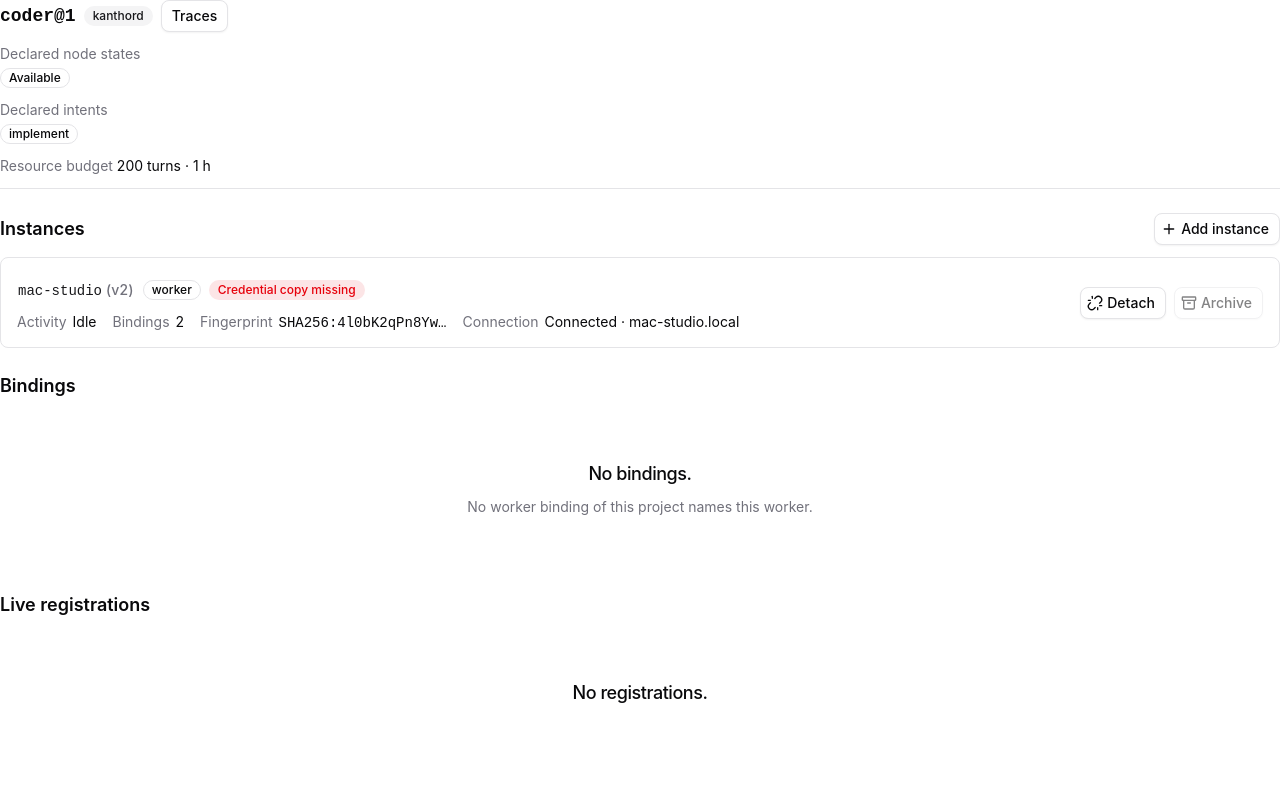
WorkerScreen › asks which binding to detach from when several bindings list the instance
Click the button with aria-label "Detach mac-studio". click: coordinates (1123, 302)
box: x1=1080 y1=286 x2=1166 y2=318
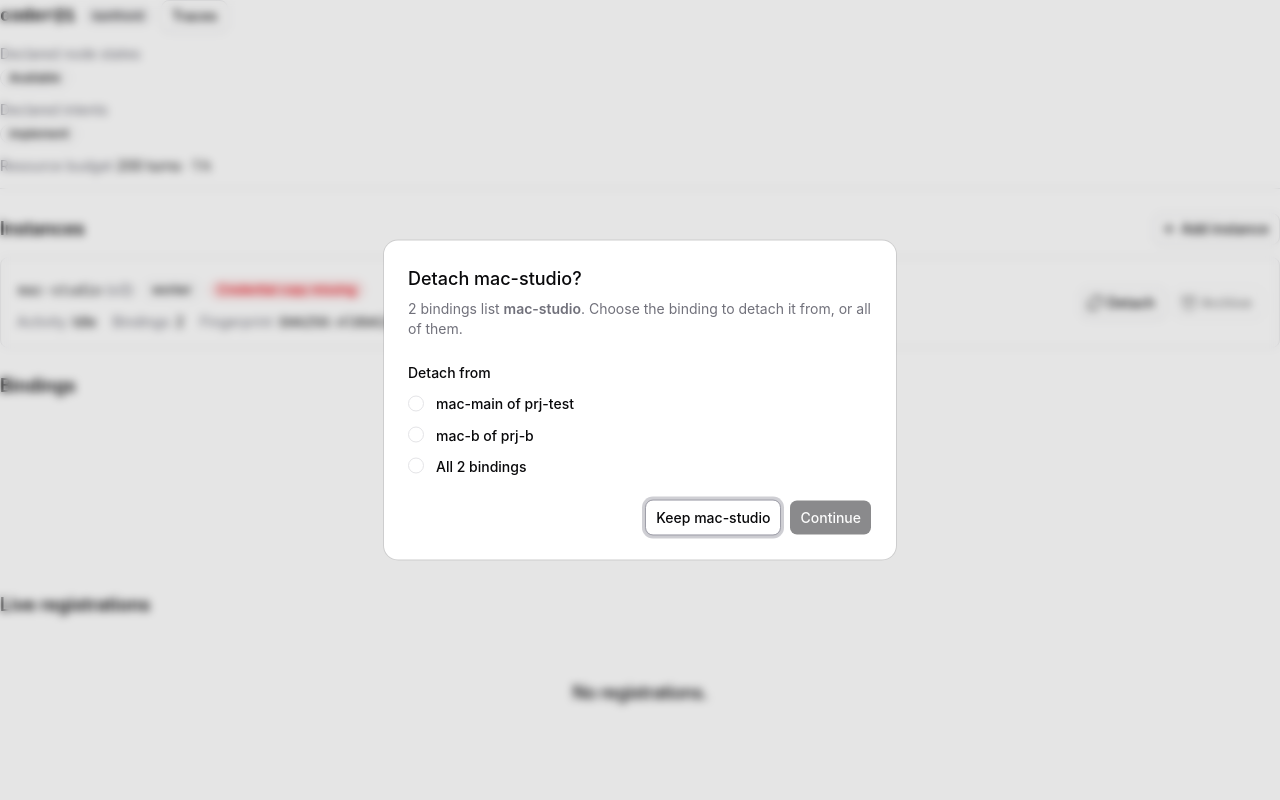
Expected: the 3rd radio button named "All 2 bindings" is shown, x1=408 y1=458 x2=424 y2=474
Result: the button "Continue" is disabled at x1=790 y1=500 x2=872 y2=536
